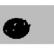correct: (2, 16, 32, 41)
